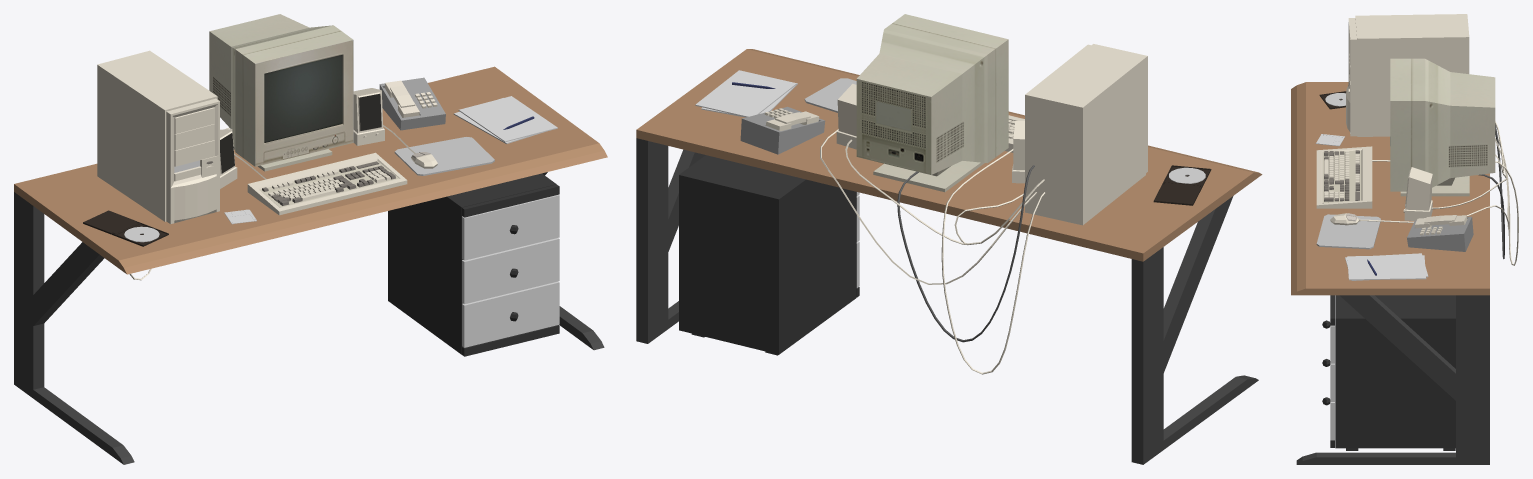
Rendered from Desk.glb.
The picture shows the model from 3 angles, left to right: view 1: azimuth 30°, elevation 25°; view 2: azimuth 150°, elevation 25°; view 3: azimuth 270°, elevation 25°; orthographic projection. The views are drawn at different scales.
Visible parts, largest first — view 1: RetroMonitor; view 2: RetroMonitor; view 3: RetroMonitor.
Boxes of the visible parts, x1,y1,x2,y2 form: RetroMonitor: (14,14,607,464); RetroMonitor: (636,14,1262,464); RetroMonitor: (1291,14,1518,464).
Bounding box in the file's own units: 1.88 × 1.18 × 0.8755.
Materials: 3 (2 with a texture image).
